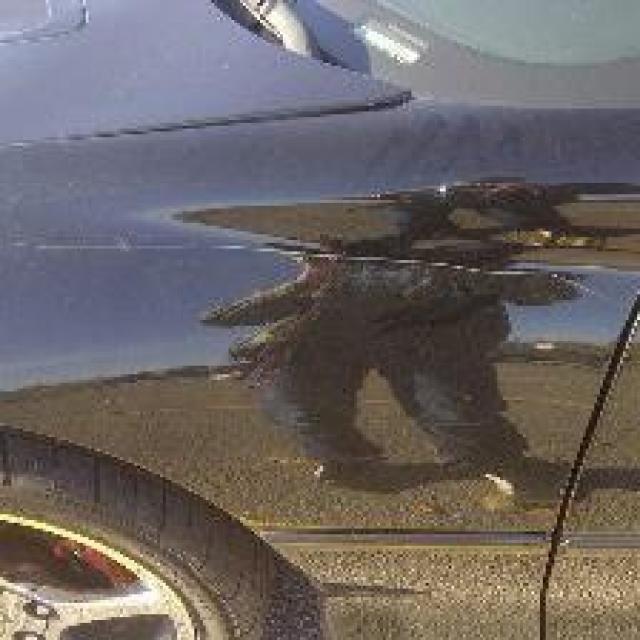damaged: (172, 191, 634, 320)
